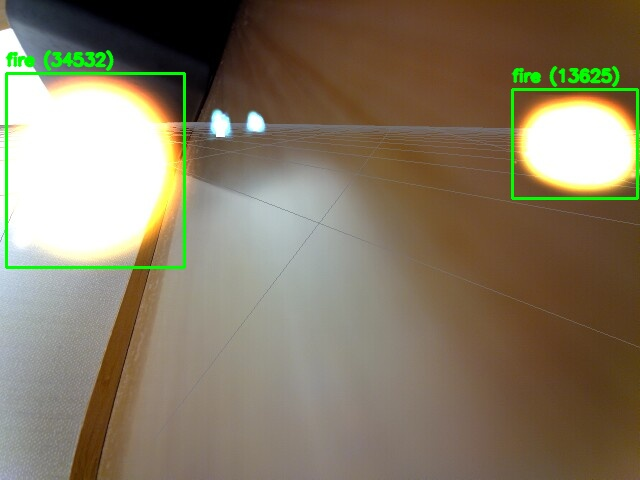fire: (6, 73, 184, 267), (512, 89, 637, 198)
